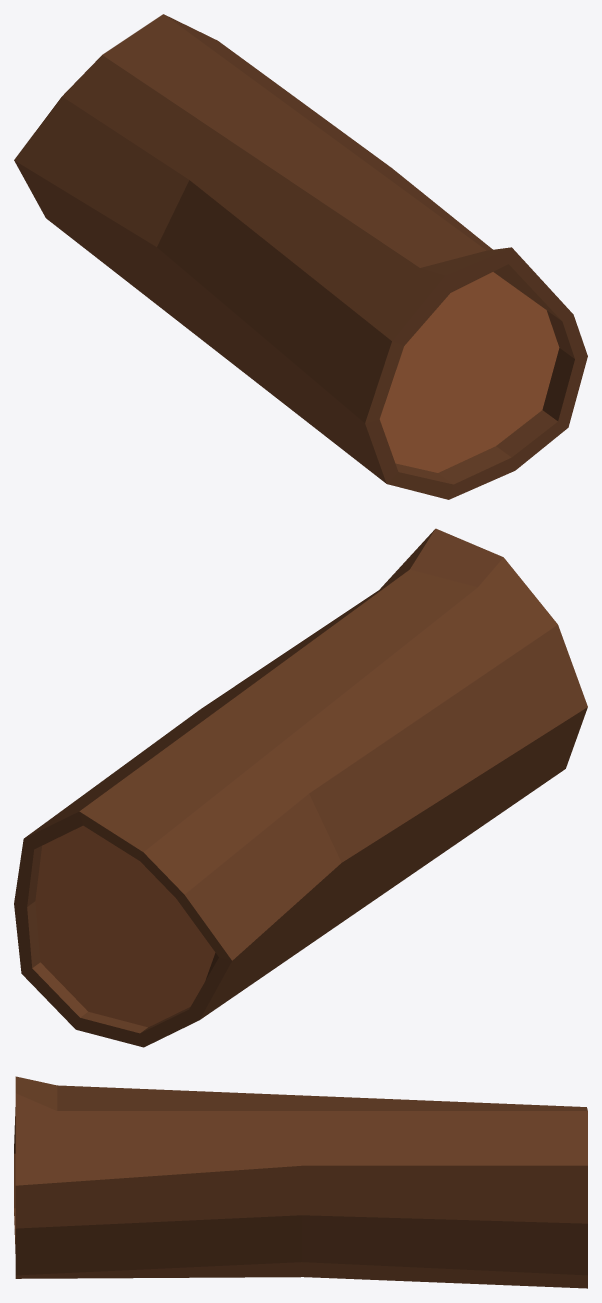
The model's file is woodlog02.gltf.
3 renders of one model, top to bottom at view 1: azimuth 30°, elevation 25°; view 2: azimuth 150°, elevation 25°; view 3: azimuth 270°, elevation 25°, orthographic. The views are drawn at different scales.
Parts seen in each view (by area): view 1: Cylinder; view 2: Cylinder; view 3: Cylinder.
Part boxes in pixels (left/top/right/bottom): Cylinder: left=14, top=14, right=587, bottom=499; Cylinder: left=14, top=528, right=587, bottom=1047; Cylinder: left=14, top=1076, right=587, bottom=1288.
Bounding box in the file's own units: 0.1903 × 0.1913 × 0.5107.
Materials: 1 (1 with a texture image).
